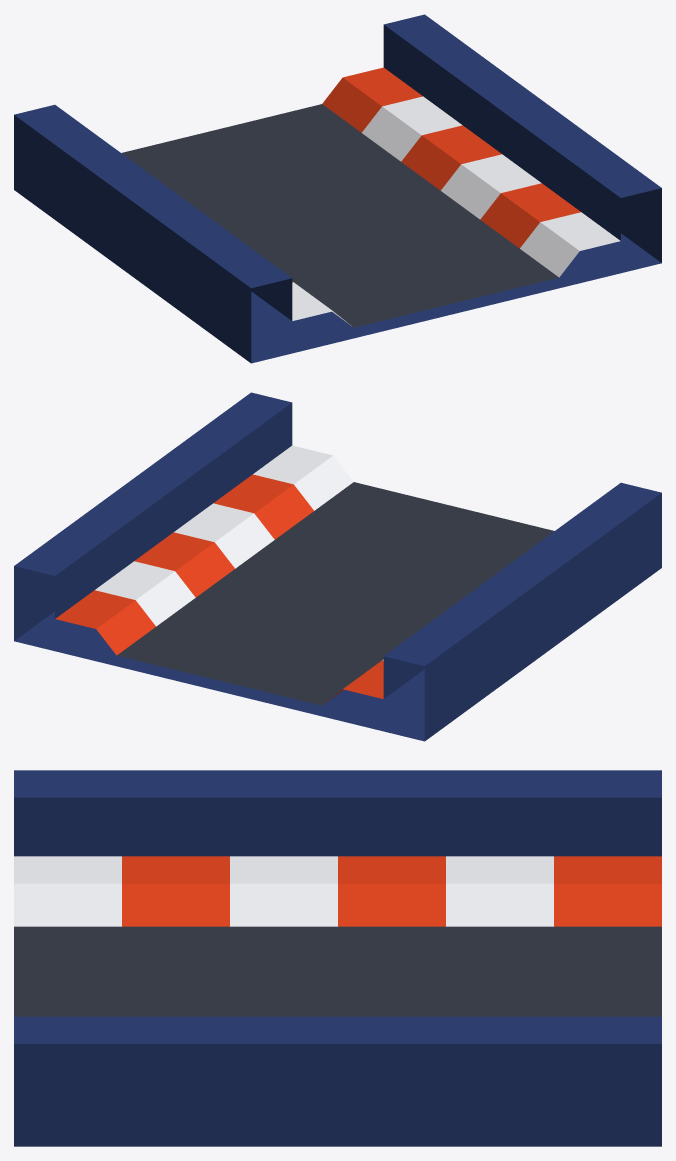
Rendered from Road.fbx.
The picture shows the model from 3 angles, top to bottom: view 1: azimuth 30°, elevation 25°; view 2: azimuth 150°, elevation 25°; view 3: azimuth 270°, elevation 25°; orthographic projection. The views are drawn at different scales.
Visible parts, largest first — view 1: road; view 2: road; view 3: road.
Boxes of the visible parts, bbox=[...] form: road: bbox=[14, 14, 661, 363]; road: bbox=[14, 392, 661, 741]; road: bbox=[14, 770, 661, 1146].
Bounding box in the file's own units: 400 × 70 × 400.
